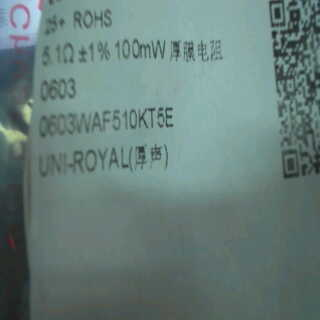5.1R: (39, 41, 80, 71)
